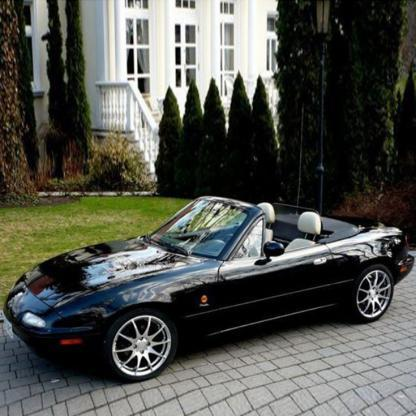car: (0, 192, 415, 385)
